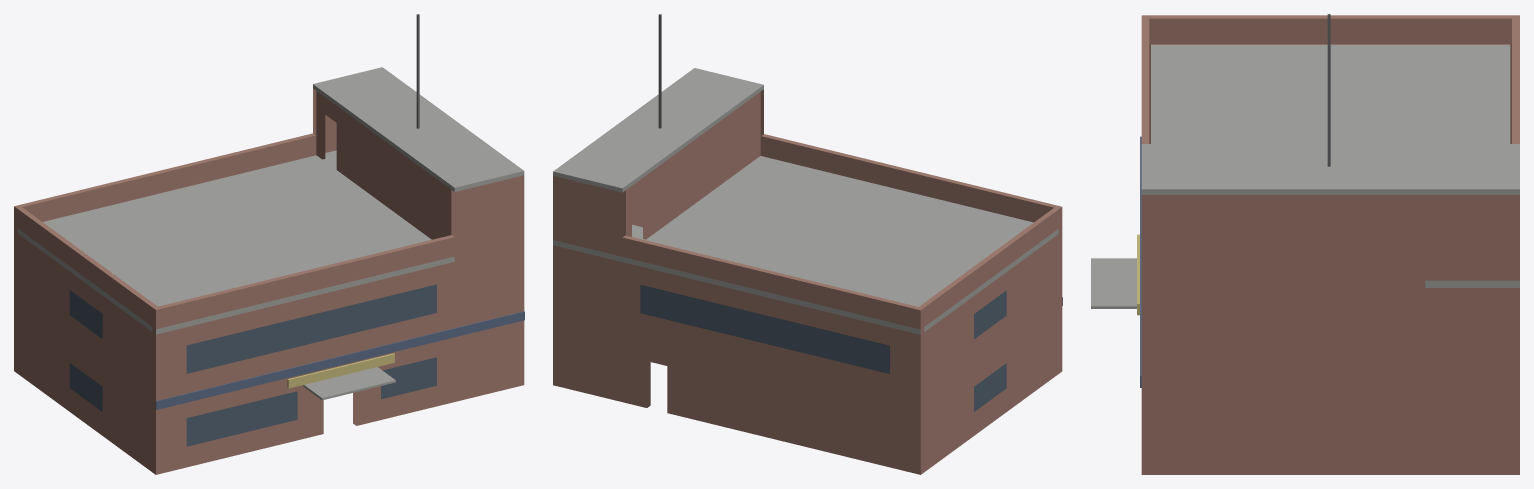
The model's file is police-station.reveal-v1.lod1.glb.
The picture shows the model from 3 angles, left to right: view 1: azimuth 30°, elevation 25°; view 2: azimuth 150°, elevation 25°; view 3: azimuth 270°, elevation 25°; orthographic projection. The views are drawn at different scales.
Visible parts, largest first — view 1: police-station; view 2: police-station; view 3: police-station.
Part boxes in pixels (x1,y1,x2,y2): police-station: (14, 14, 524, 474); police-station: (553, 14, 1062, 474); police-station: (1091, 14, 1519, 474).
Bounding box in the file's own units: 18 × 15.3 × 13.6.
